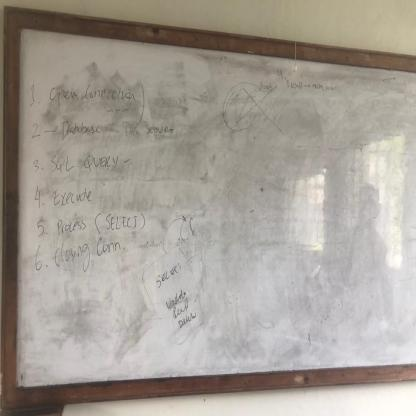Handwritten text: (47, 76, 140, 107), (46, 148, 125, 179), (52, 237, 124, 271), (55, 211, 141, 236), (53, 117, 107, 140), (46, 189, 102, 207)
Whiteboard: (12, 22, 416, 393)
